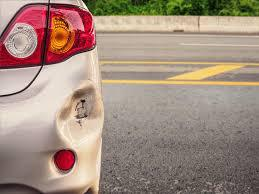rear-bumper-dent: (0, 72, 104, 193)
